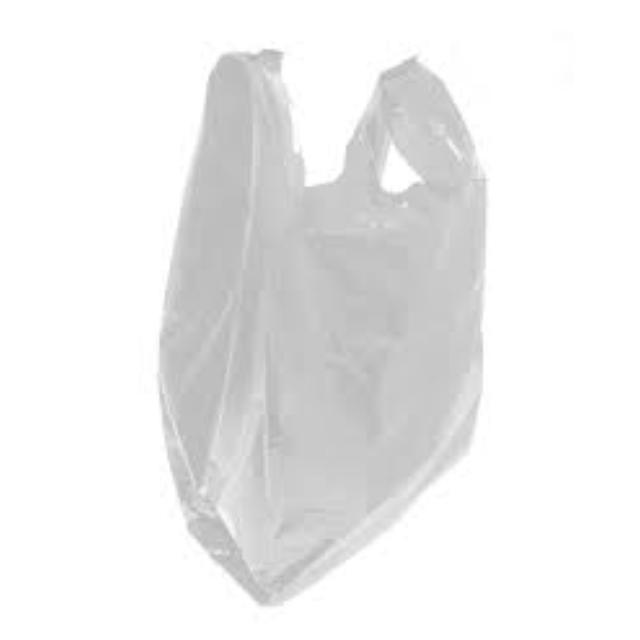Bolsa-de-plastico: (156, 50, 491, 608)
